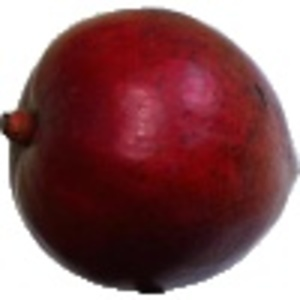manga: (1, 7, 300, 294)
